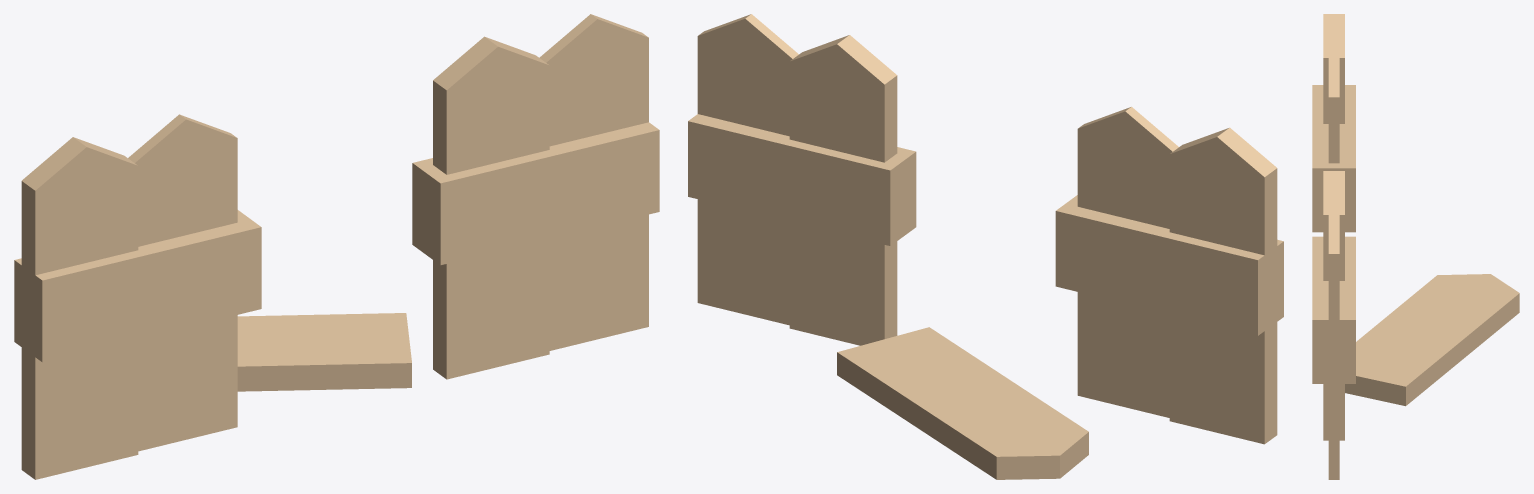
Rendered from fenceBroken.glb.
3 renders of one model, left to right at view 1: azimuth 30°, elevation 25°; view 2: azimuth 150°, elevation 25°; view 3: azimuth 270°, elevation 25°, orthographic. The views are drawn at different scales.
Parts seen in each view (by area): view 1: fenceBroken(Clone); view 2: fenceBroken(Clone); view 3: fenceBroken(Clone).
Boxes of the visible parts, <box> form: fenceBroken(Clone): <box>14,14,659,479</box>; fenceBroken(Clone): <box>688,14,1283,479</box>; fenceBroken(Clone): <box>1312,14,1519,479</box>.
Size of the model in its own units: 1 by 0.4961 by 0.3729.
